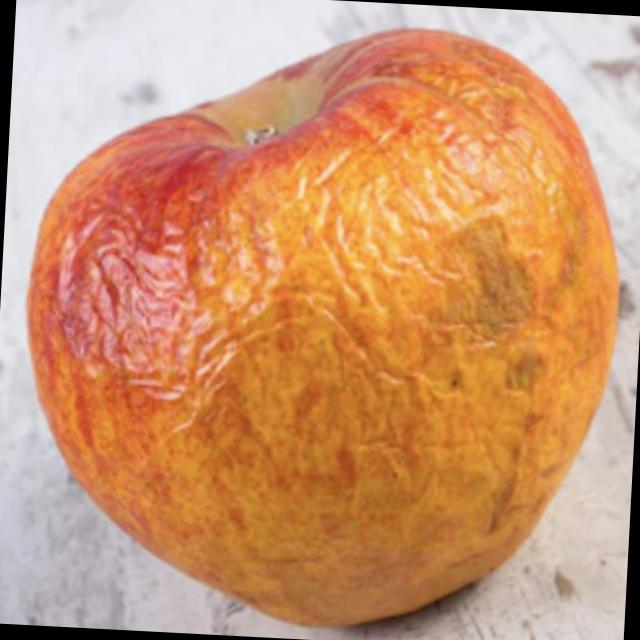rotten_apple: (7, 9, 631, 640)
